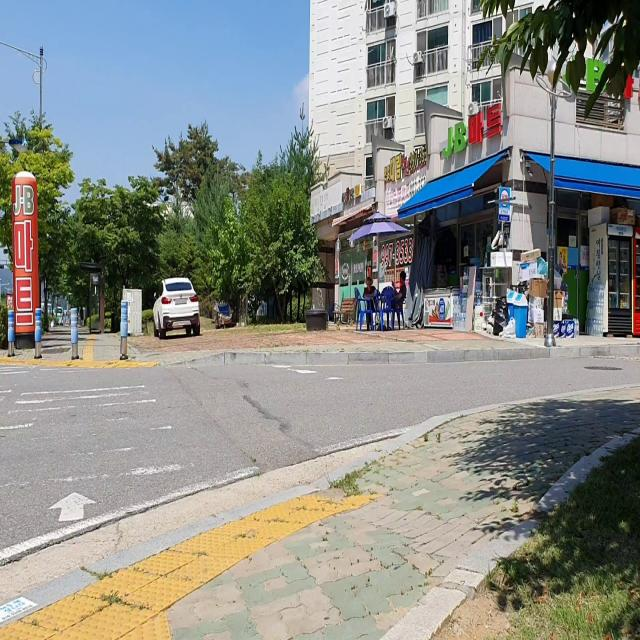횡단보도: (0, 359, 193, 525)
